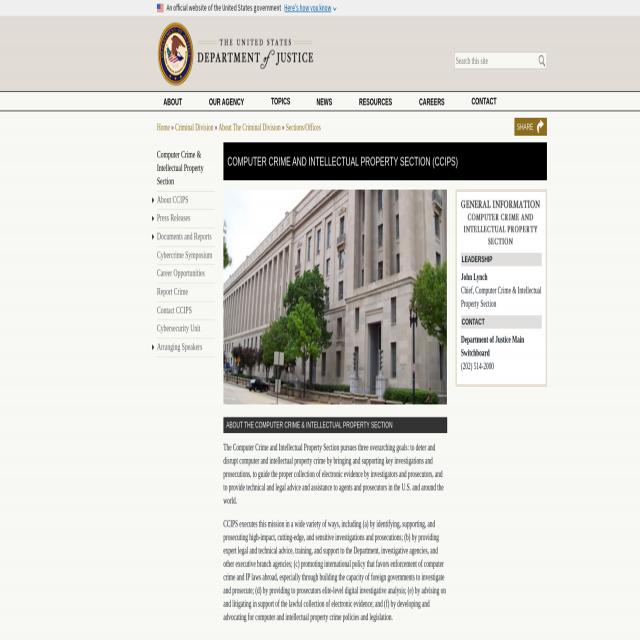button: (223, 190, 447, 404), (157, 21, 314, 87), (206, 94, 247, 110), (514, 117, 547, 136), (357, 94, 395, 109), (416, 94, 448, 110), (469, 94, 499, 109), (161, 94, 185, 110), (269, 94, 293, 109), (314, 94, 335, 110), (538, 56, 544, 66), (157, 4, 163, 12)
field: (455, 52, 547, 70)
